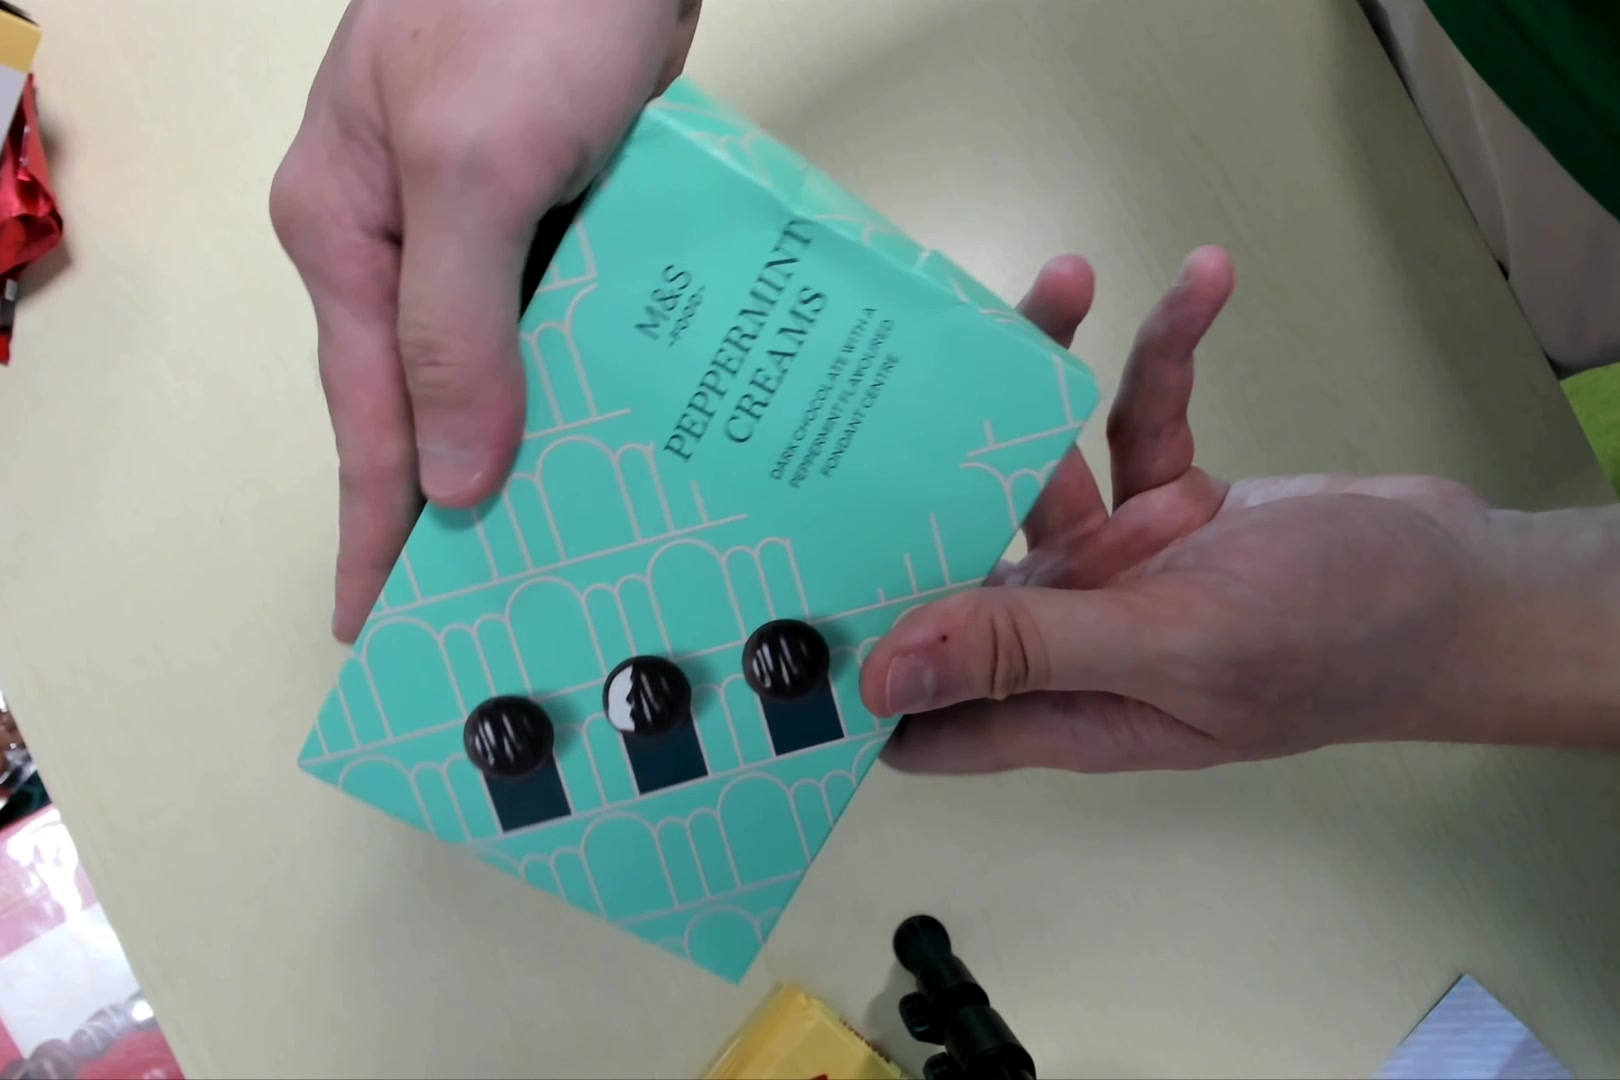SweetsChocolatesOthers_100-199g_NonHalal_NonHealthy: (305, 102, 1108, 990)
